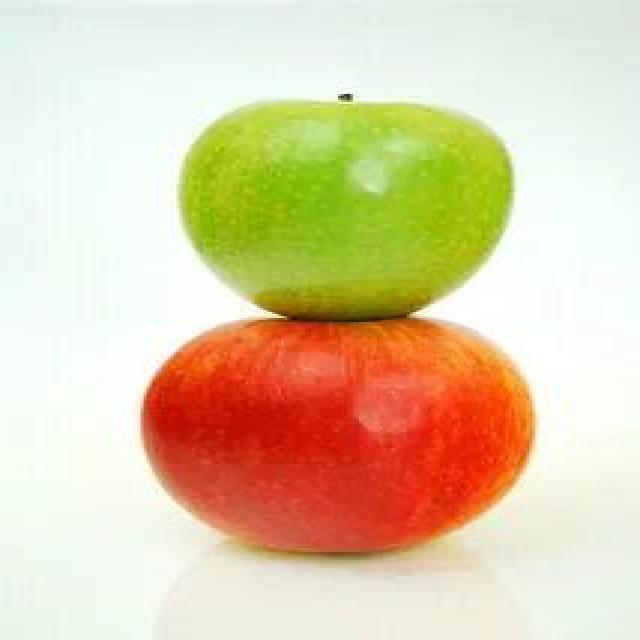Fresh Apple: (146, 328, 546, 568), (163, 95, 497, 327)
